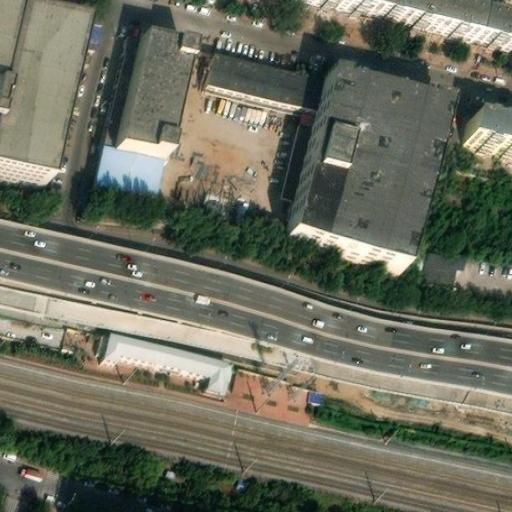building: (279, 68, 445, 267), (0, 278, 244, 354), (96, 327, 233, 398), (116, 27, 192, 150), (204, 39, 323, 105), (100, 28, 140, 138), (94, 135, 165, 196), (278, 102, 313, 194), (223, 364, 267, 410), (462, 114, 512, 151), (433, 244, 475, 280)
